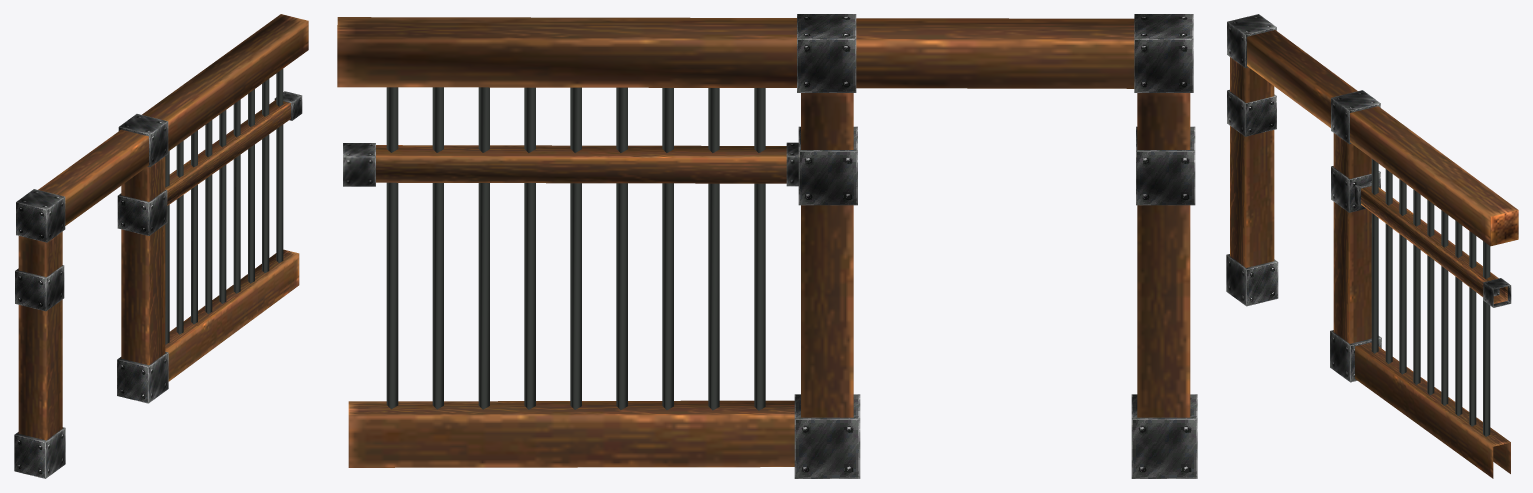
File: SWORDLIGHT20_JAILCELLBARS03.fbx
3 renders of one model, left to right at view 1: azimuth 30°, elevation 25°; view 2: azimuth 150°, elevation 25°; view 3: azimuth 270°, elevation 25°, orthographic. The views are drawn at different scales.
Parts seen in each view (by area): view 1: SWORDLIGHT20_JAILCELLBARS03; view 2: SWORDLIGHT20_JAILCELLBARS03; view 3: SWORDLIGHT20_JAILCELLBARS03.
Part boxes in pixels (x1=…): SWORDLIGHT20_JAILCELLBARS03: x1=14, y1=14, x2=308, y2=478; SWORDLIGHT20_JAILCELLBARS03: x1=337, y1=14, x2=1197, y2=478; SWORDLIGHT20_JAILCELLBARS03: x1=1226, y1=14, x2=1518, y2=478.
Size of the model in its own units: 58796 by 36791 by 36006.
Materials: 3 (3 with a texture image).
